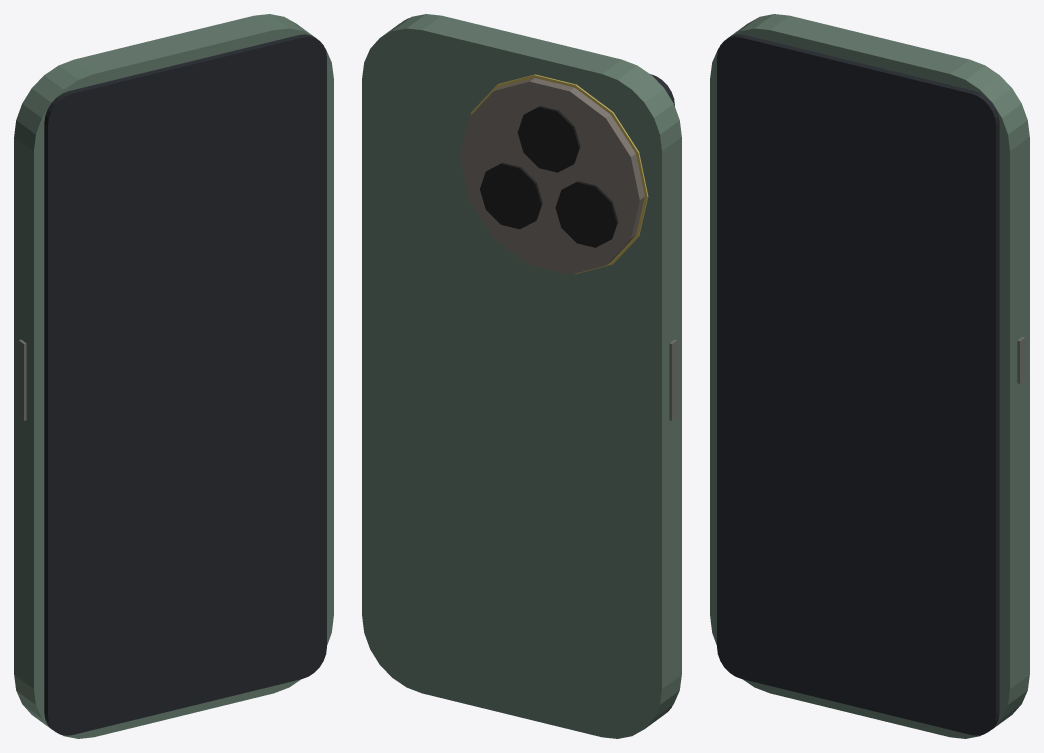
The model's file is 30_huawei_pura_70_ultra.glb.
The picture shows the model from 3 angles, left to right: view 1: azimuth 30°, elevation 25°; view 2: azimuth 150°, elevation 25°; view 3: azimuth 330°, elevation 25°; orthographic projection.
Parts seen in each view (by area): view 1: geometry_1, geometry_0, geometry_3; view 2: geometry_0, geometry_5, geometry_11, geometry_7, geometry_9, geometry_6, geometry_3; view 3: geometry_1, geometry_0.
Boxes of the visible parts, left/top/right/bottom form: geometry_1: left=44, top=34, right=326, bottom=735; geometry_0: left=14, top=14, right=333, bottom=738; geometry_3: left=18, top=339, right=26, bottom=420; geometry_0: left=362, top=14, right=681, bottom=738; geometry_5: left=460, top=78, right=644, bottom=274; geometry_11: left=480, top=162, right=542, bottom=229; geometry_7: left=517, top=106, right=580, bottom=172; geometry_9: left=555, top=181, right=617, bottom=247; geometry_6: left=471, top=74, right=648, bottom=274; geometry_3: left=669, top=339, right=677, bottom=420; geometry_1: left=717, top=34, right=999, bottom=735; geometry_0: left=710, top=14, right=1029, bottom=738.
Size of the model in its own units: 0.2389 by 0.4985 by 0.0419.
